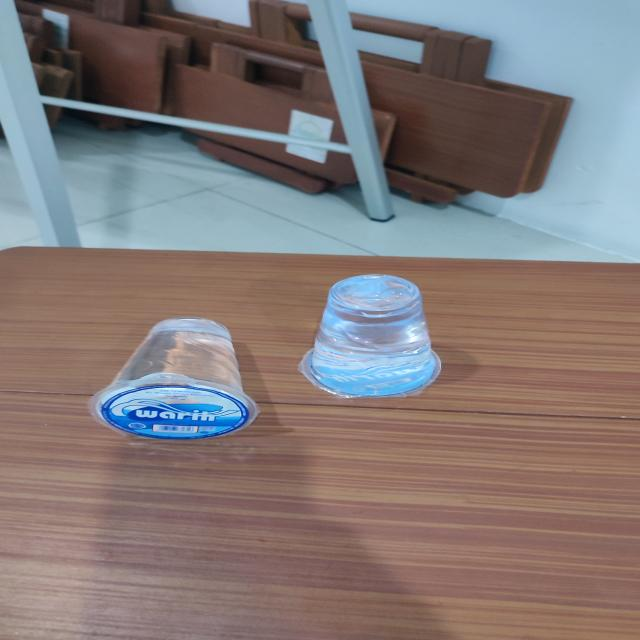air gelas: (81, 310, 269, 443), (293, 272, 462, 406)
